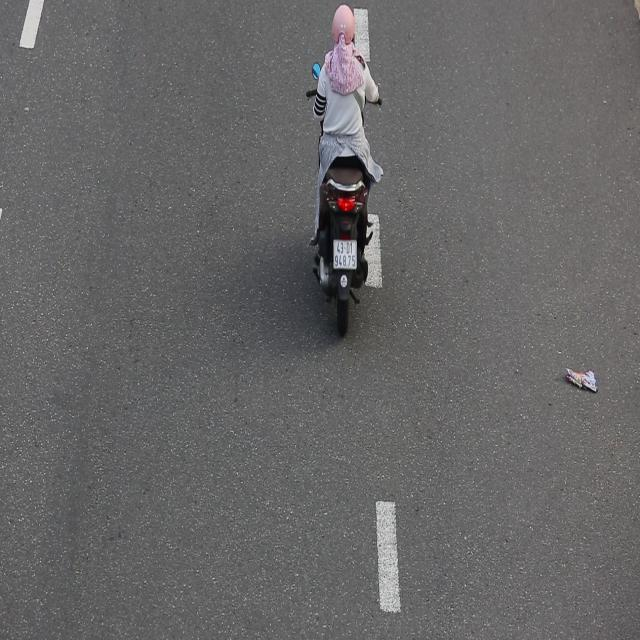motorbike: (304, 6, 388, 336)
